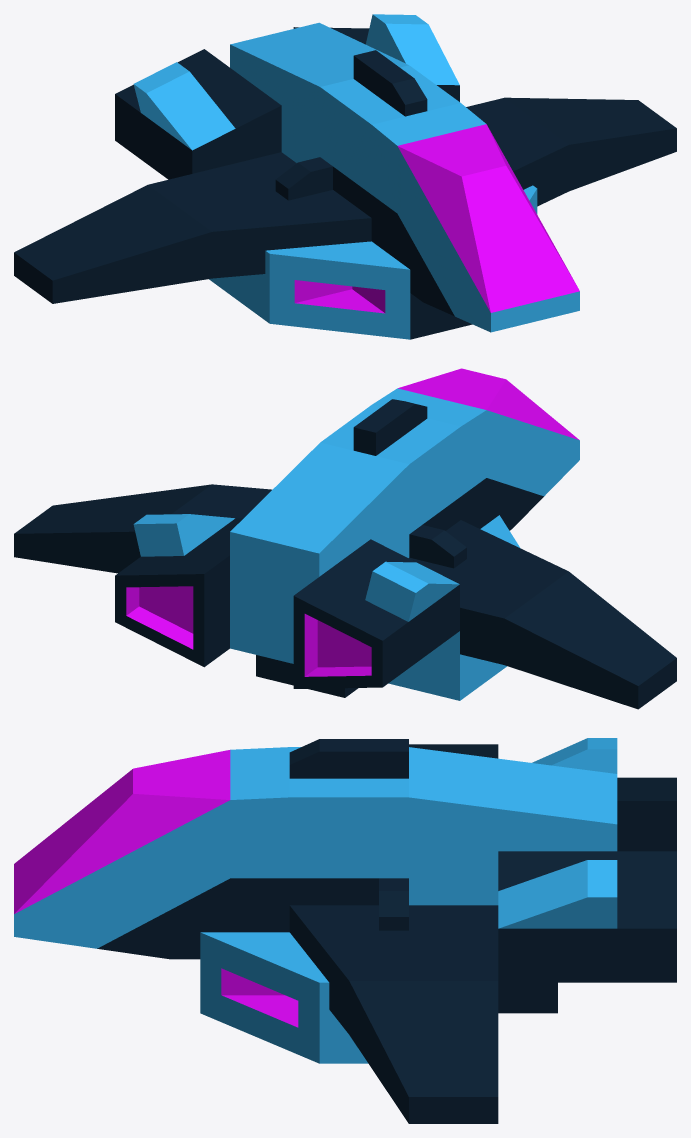
File: craft_speederD.obj
The picture shows the model from 3 angles, top to bottom: view 1: azimuth 30°, elevation 25°; view 2: azimuth 150°, elevation 25°; view 3: azimuth 270°, elevation 25°; orthographic projection. The views are drawn at different scales.
Visible parts, largest first — view 1: craft_speederD; view 2: craft_speederD; view 3: craft_speederD.
Boxes of the visible parts, <box> form: craft_speederD: <box>14,14,676,339</box>; craft_speederD: <box>14,368,676,709</box>; craft_speederD: <box>14,738,676,1123</box>.
Size of the model in its own units: 2.8 by 0.9 by 2.23.
